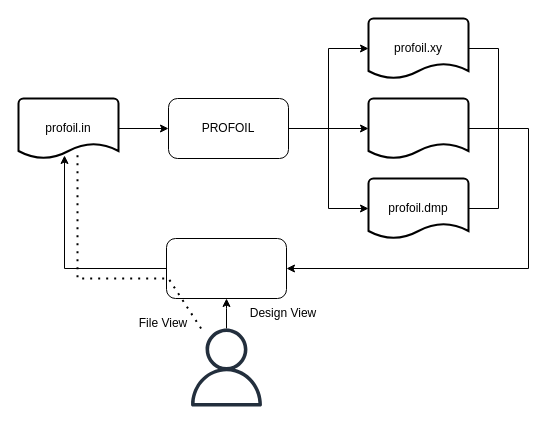
This 554x423 diagram has some shape labels left out. Here are the shapes that lost their labels. From the top down, the box of each, then its label:
(367, 97, 469, 159): profoil.vel
(166, 238, 286, 298): PROFOIL-UI
